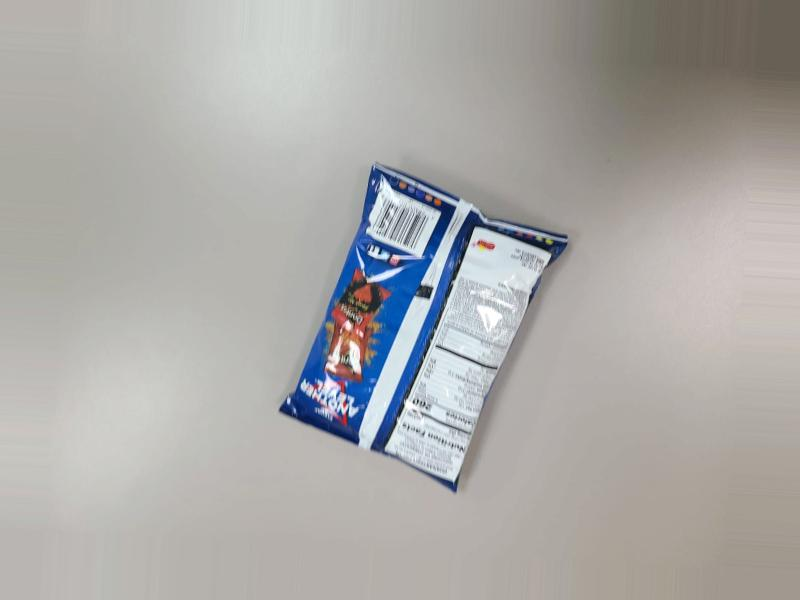doritos: (266, 172, 552, 499)
